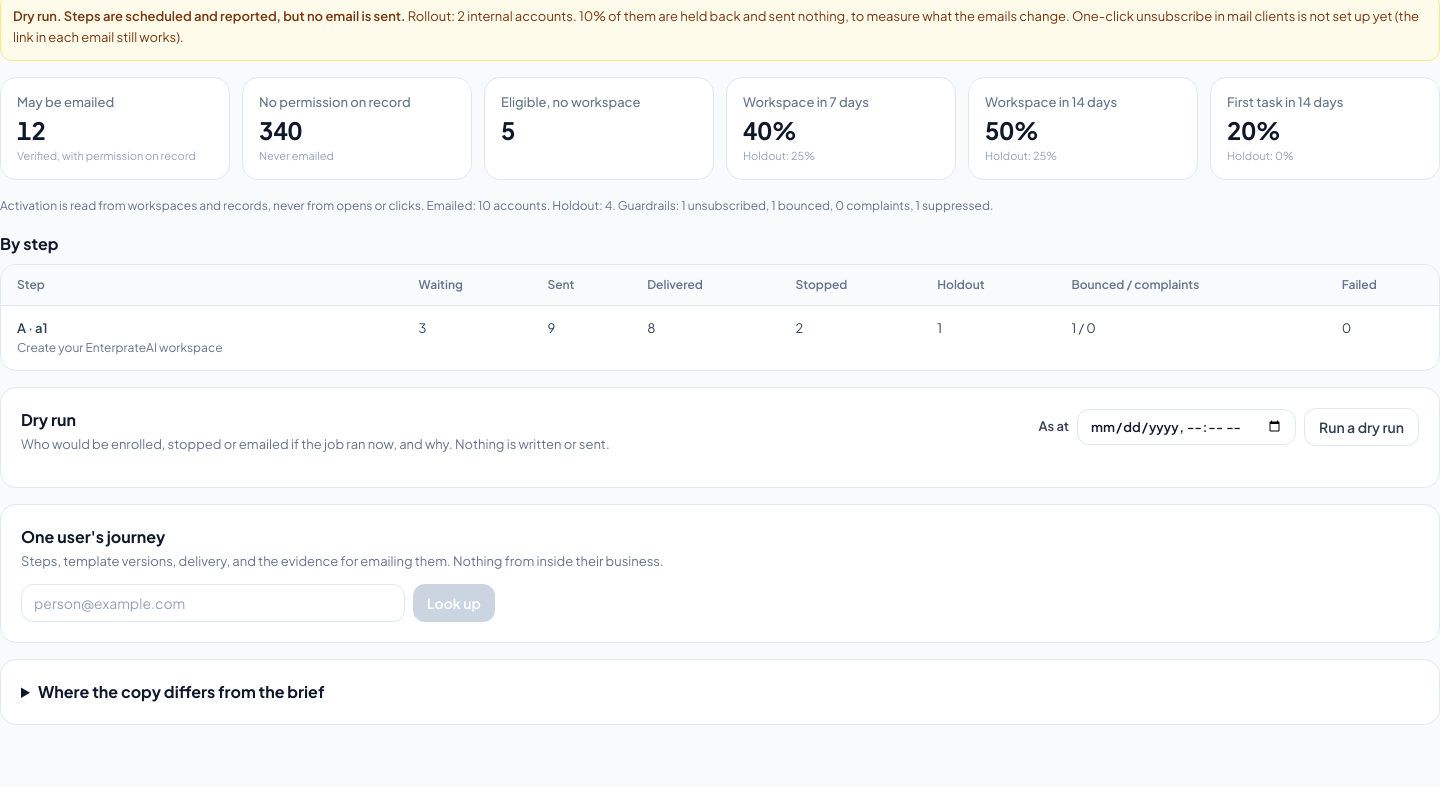
administrator view › looks up one user's journey and records permission only with evidence
In the field named "Account email": coordinates (213, 603) top-left (21, 584), bottom-right (405, 622), type "nobody@example.test"
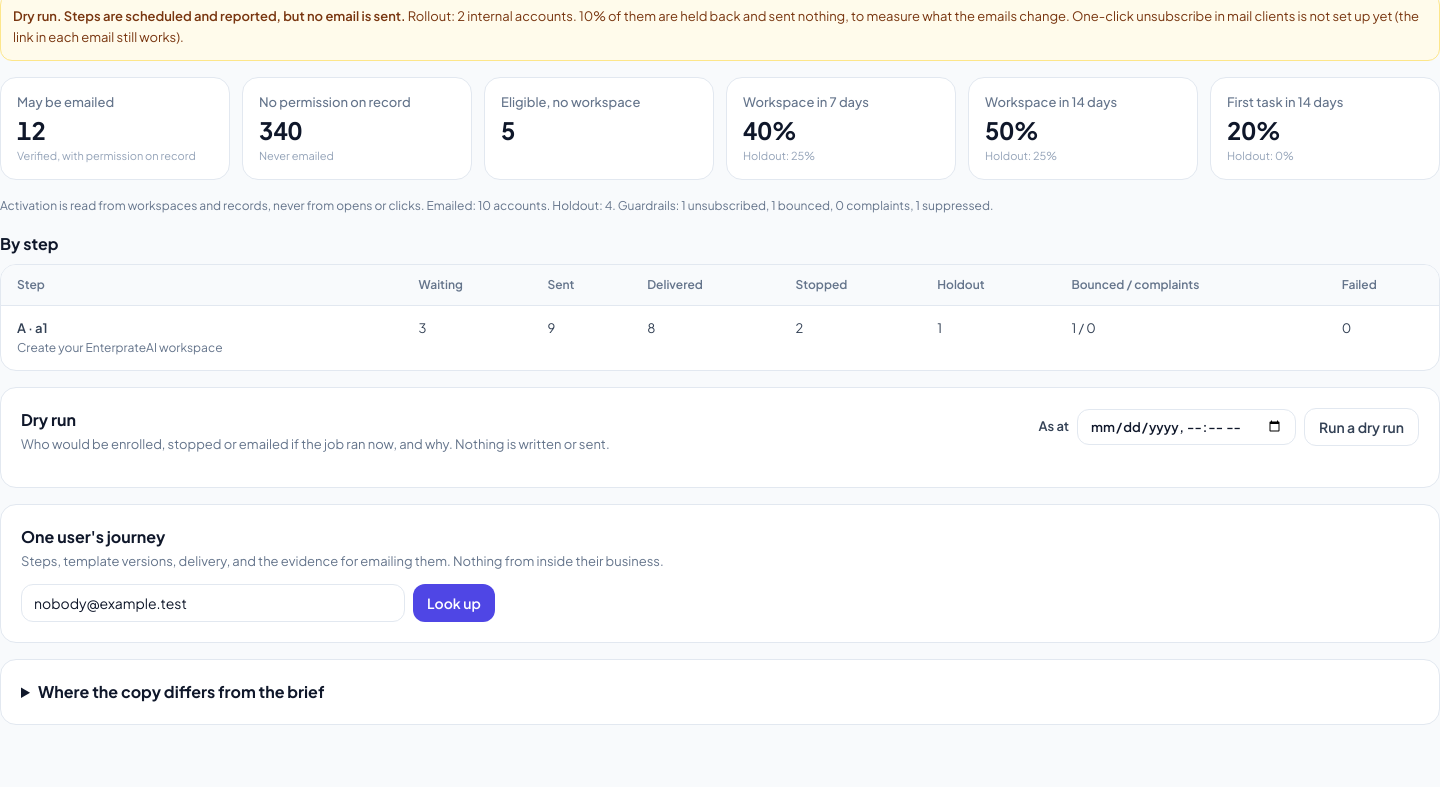
Click the button "Look up": coordinates (454, 603) top-left (413, 584), bottom-right (495, 622)
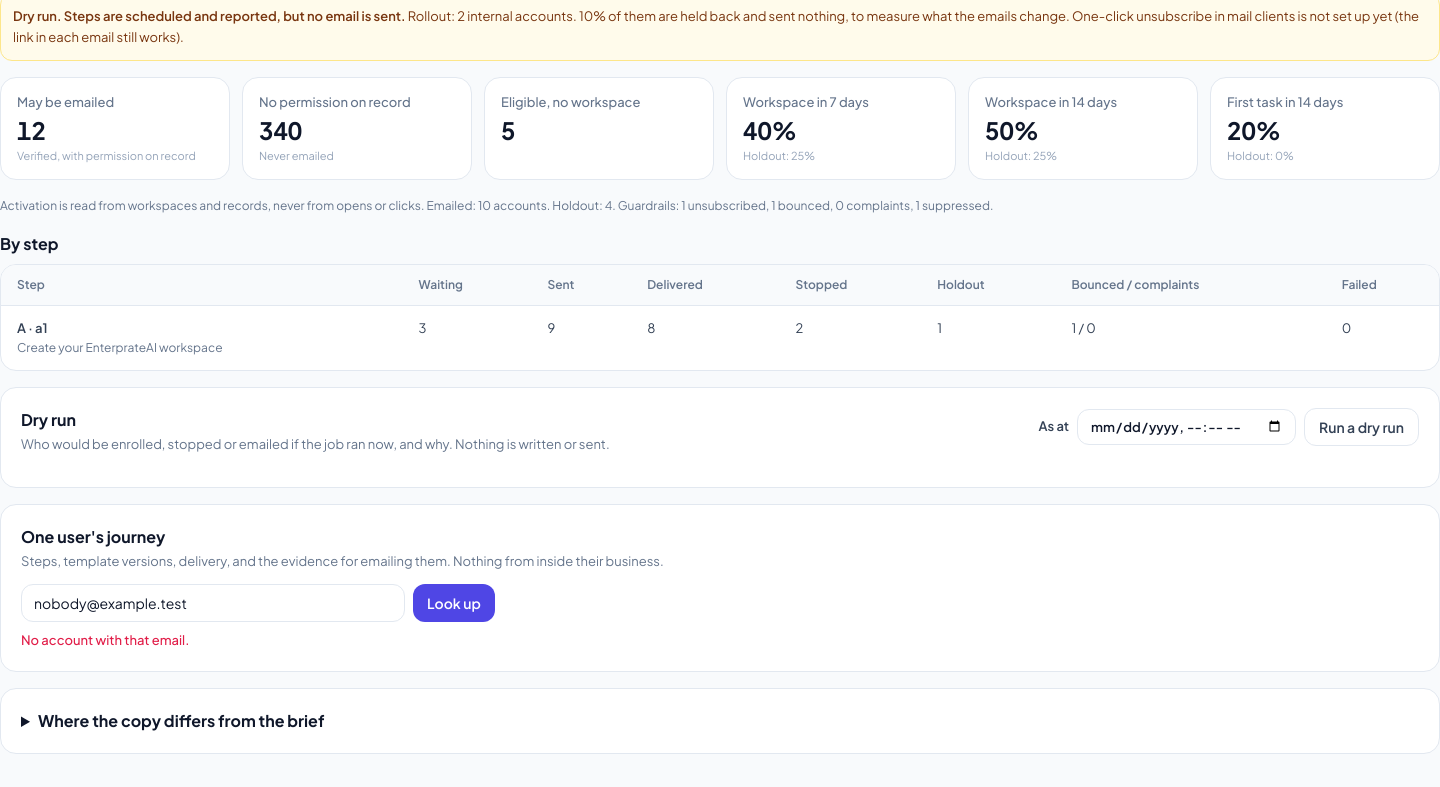
Now the text "No account with that email." is shown, box top-left (21, 632), bottom-right (189, 648)
Replace the text in the field named "Account email" with "Ada@Example.test": coordinates (213, 603) top-left (21, 584), bottom-right (405, 622)
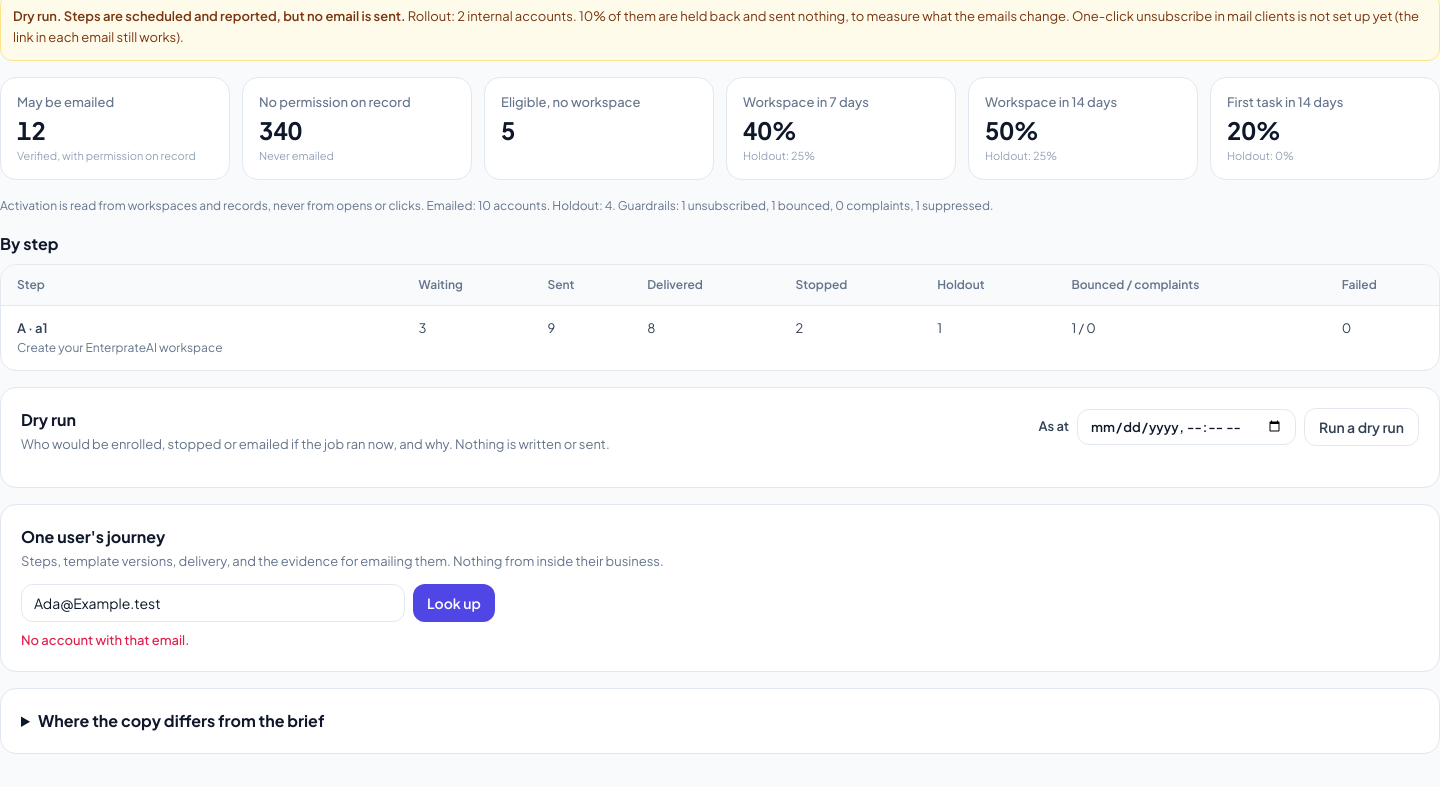
Click the button "Look up": coordinates (454, 603) top-left (413, 584), bottom-right (495, 622)
(page scrolled)
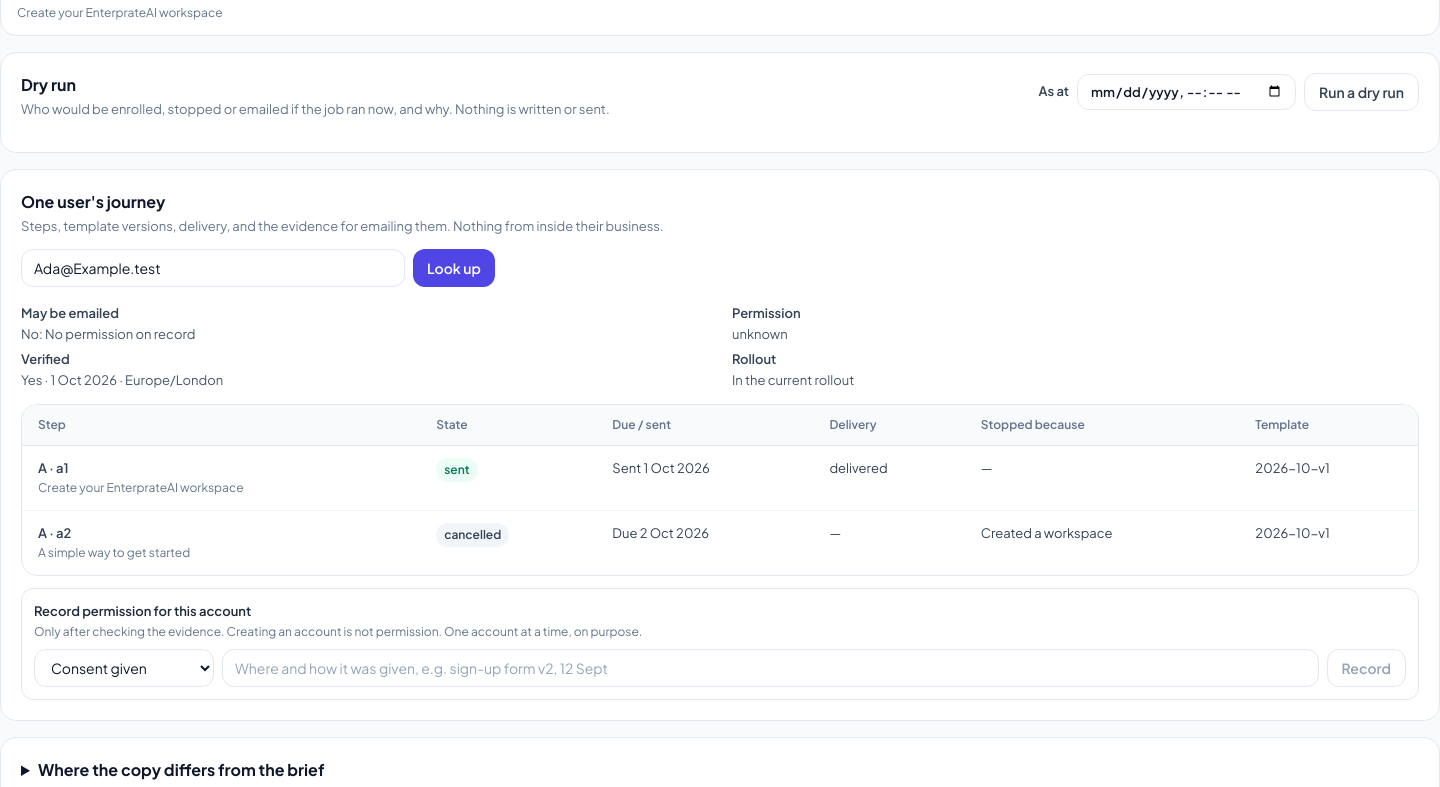
Now the text "No: No permission on record" is shown, box top-left (21, 326), bottom-right (196, 342)
Now the text "Created a workspace" is shown, box top-left (965, 510), bottom-right (1239, 574)
Now the text "delivered" is shown, box top-left (813, 446), bottom-right (965, 510)
In the field with placeholder "Where and how it was given, e.g. sign-up form v2, 12 Sept": coordinates (770, 668) top-left (222, 649), bottom-right (1319, 687), type "Sign-up form v2, 12 Sept"
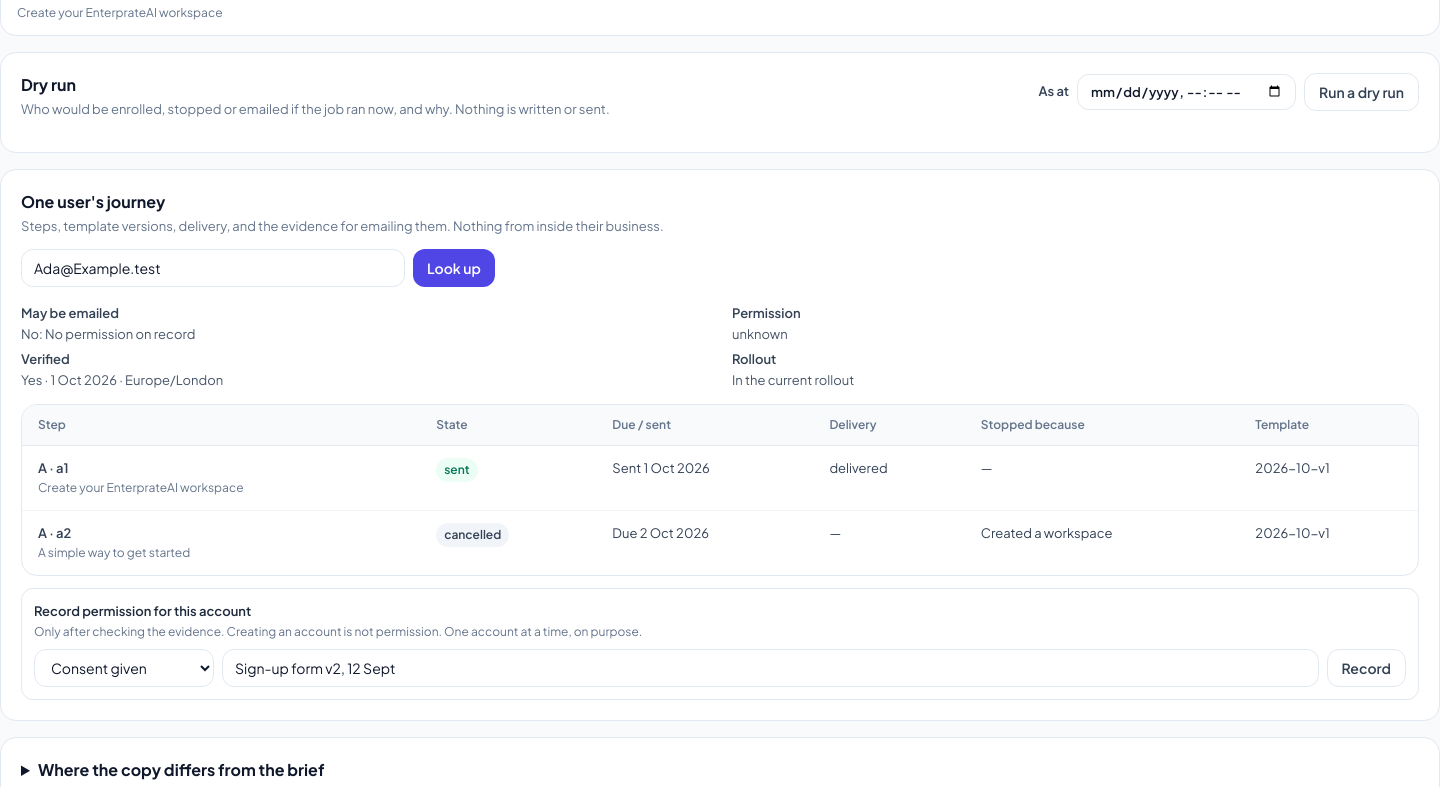
Click the button "Record": coordinates (1366, 668) top-left (1327, 649), bottom-right (1406, 687)
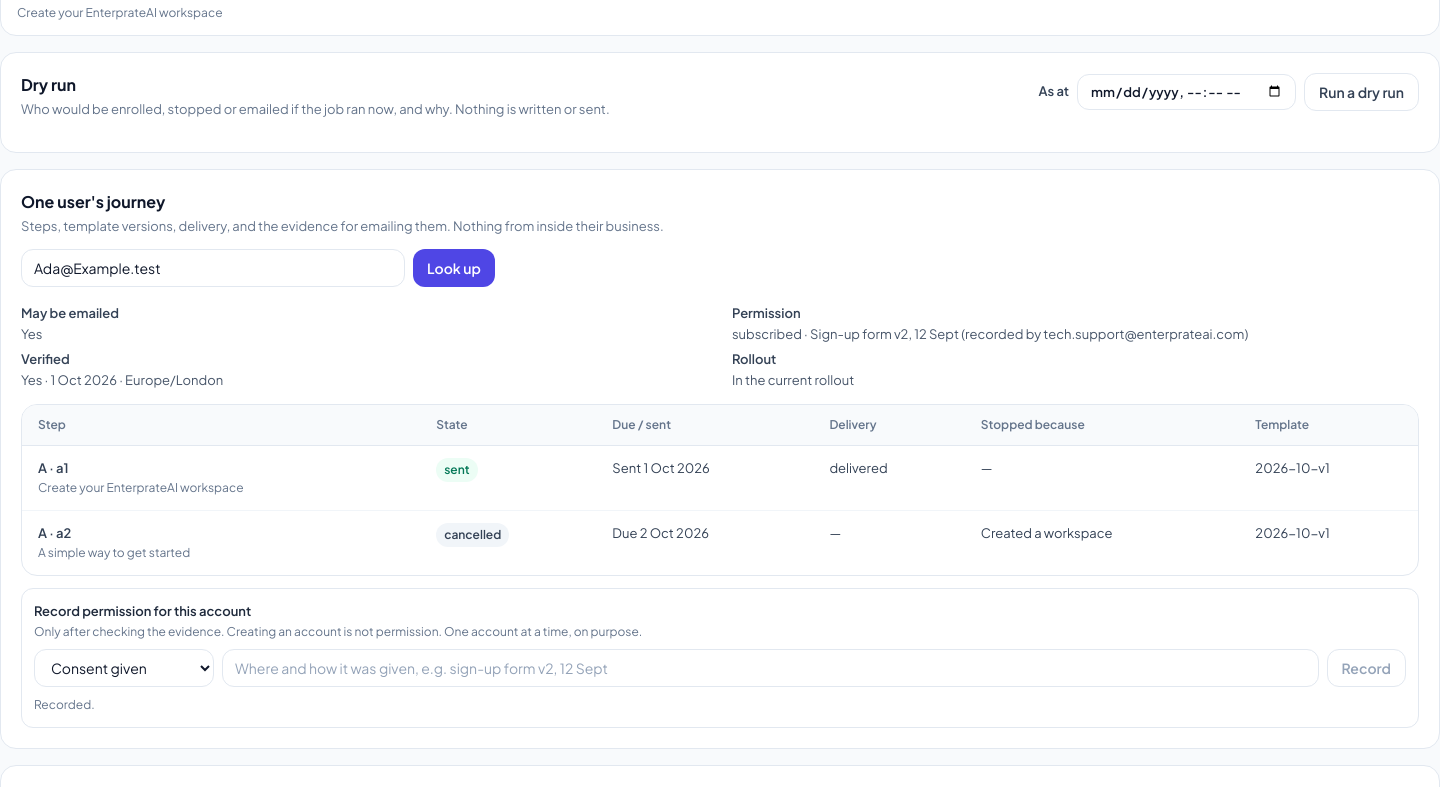
Now the text "Recorded." is shown, box top-left (34, 697), bottom-right (95, 712)
Now the text "Yes" is shown, box top-left (21, 326), bottom-right (42, 342)
